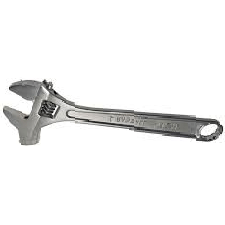Wrench: (3, 66, 225, 158)
